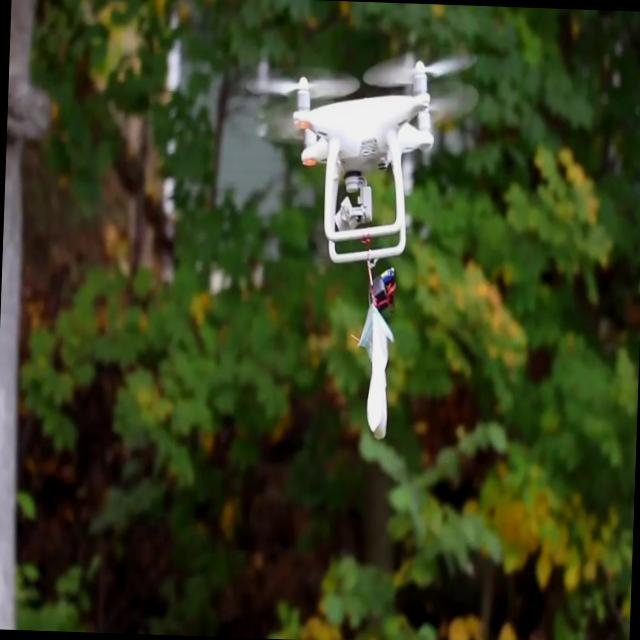drone: (246, 44, 479, 268)
